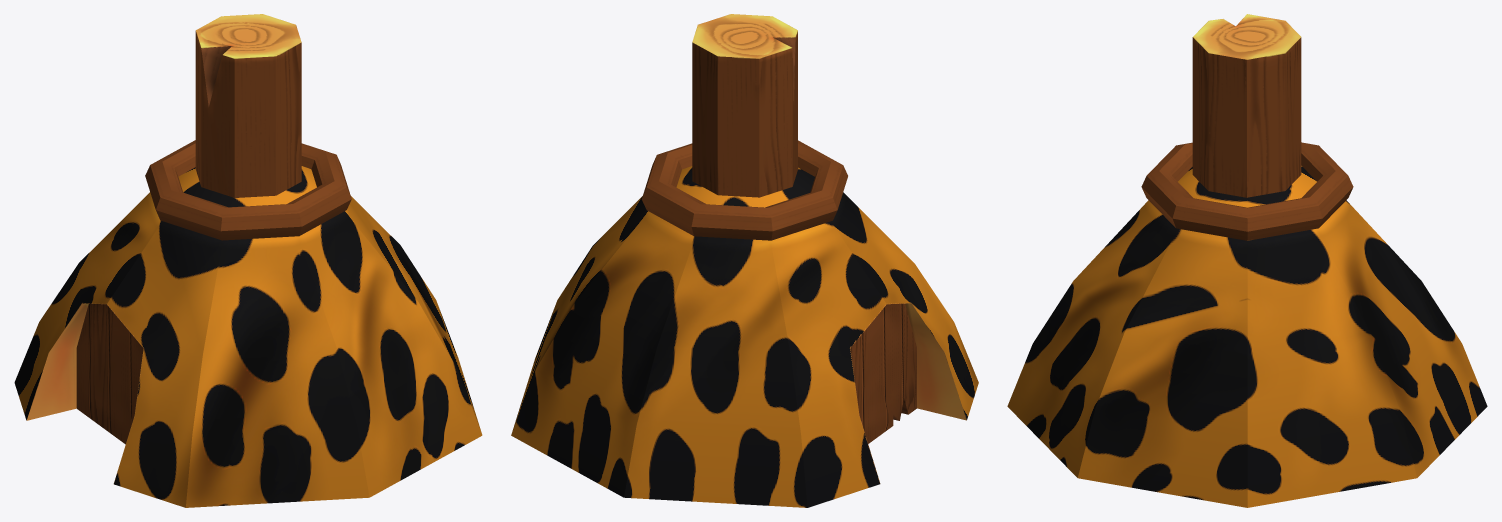
File: Ancient_House_1.fbx
3 renders of one model, left to right at view 1: azimuth 30°, elevation 25°; view 2: azimuth 150°, elevation 25°; view 3: azimuth 270°, elevation 25°, orthographic.
Parts seen in each view (by area): view 1: Ancient_House_1; view 2: Ancient_House_1; view 3: Ancient_House_1.
Boxes of the visible parts, x1,y1,x2,y2 form: Ancient_House_1: [14, 14, 482, 507]; Ancient_House_1: [511, 14, 978, 507]; Ancient_House_1: [1007, 14, 1487, 507].
Bounding box in the file's own units: 3.69 × 3.38 × 3.99.
